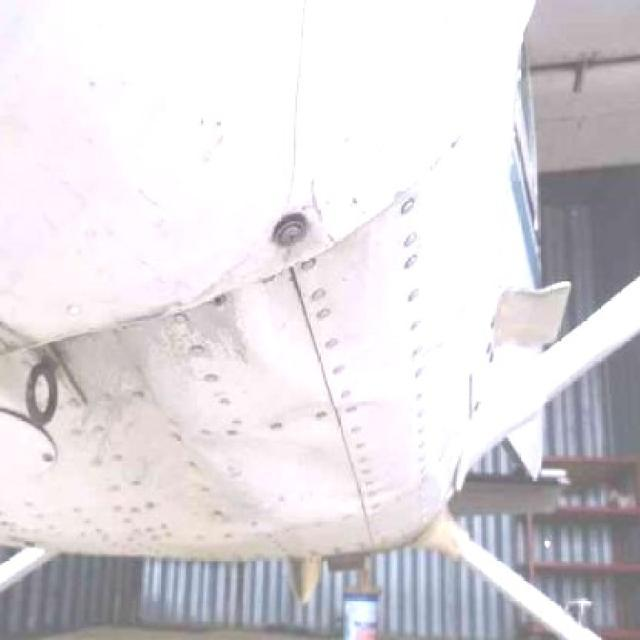dent: (250, 232, 372, 391)
